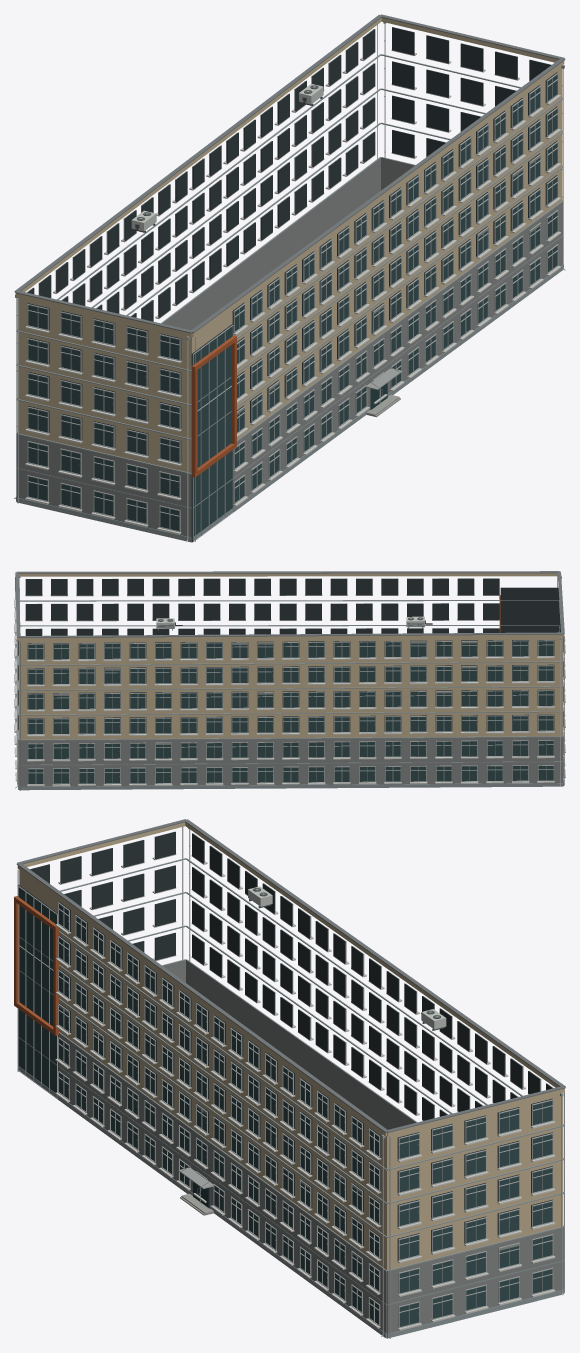
Rendered from osm_way_1173057053.glb.
3 renders of one model, top to bottom at view 1: azimuth 30°, elevation 25°; view 2: azimuth 150°, elevation 25°; view 3: azimuth 270°, elevation 25°, orthographic. The views are drawn at different scales.
Visible parts, largest first — view 1: Windows and facade details | 集成电路科学与工程学院, Architecture | 集成电路科学与工程学院, Roof services | 集成电路科学与工程学院, EXTERIOR::osm_way_1173057053::rainwater and roof service det, EXTERIOR::osm_way_1173057053::inferred entry doors canopy an; view 2: Windows and facade details | 集成电路科学与工程学院, Architecture | 集成电路科学与工程学院, Roof services | 集成电路科学与工程学院, EXTERIOR::osm_way_1173057053::rainwater and roof service det, EXTERIOR::osm_way_1173057053::native pane seals and hardware; view 3: Windows and facade details | 集成电路科学与工程学院, Architecture | 集成电路科学与工程学院, Roof services | 集成电路科学与工程学院, EXTERIOR::osm_way_1173057053::rainwater and roof service det, EXTERIOR::osm_way_1173057053::inferred entry doors canopy an.
Part boxes in pixels (bbox=[...]): Windows and facade details | 集成电路科学与工程学院: bbox=[17, 24, 560, 542]; Architecture | 集成电路科学与工程学院: bbox=[15, 17, 564, 542]; Roof services | 集成电路科学与工程学院: bbox=[14, 14, 565, 333]; EXTERIOR::osm_way_1173057053::rainwater and roof service det: bbox=[14, 22, 565, 541]; EXTERIOR::osm_way_1173057053::inferred entry doors canopy an: bbox=[366, 365, 402, 417]; Windows and facade details | 集成电路科学与工程学院: bbox=[14, 576, 565, 790]; Architecture | 集成电路科学与工程学院: bbox=[17, 573, 563, 790]; Roof services | 集成电路科学与工程学院: bbox=[15, 571, 564, 637]; EXTERIOR::osm_way_1173057053::rainwater and roof service det: bbox=[15, 576, 561, 788]; EXTERIOR::osm_way_1173057053::native pane seals and hardware: bbox=[54, 641, 527, 776]; Windows and facade details | 集成电路科学与工程学院: bbox=[17, 827, 564, 1338]; Architecture | 集成电路科学与工程学院: bbox=[14, 822, 564, 1338]; Roof services | 集成电路科学与工程学院: bbox=[16, 819, 565, 1132]; EXTERIOR::osm_way_1173057053::rainwater and roof service det: bbox=[188, 828, 563, 1337]; EXTERIOR::osm_way_1173057053::inferred entry doors canopy an: bbox=[178, 1164, 214, 1215].
Size of the model in its own units: 73.75 by 23.58 by 54.95.
